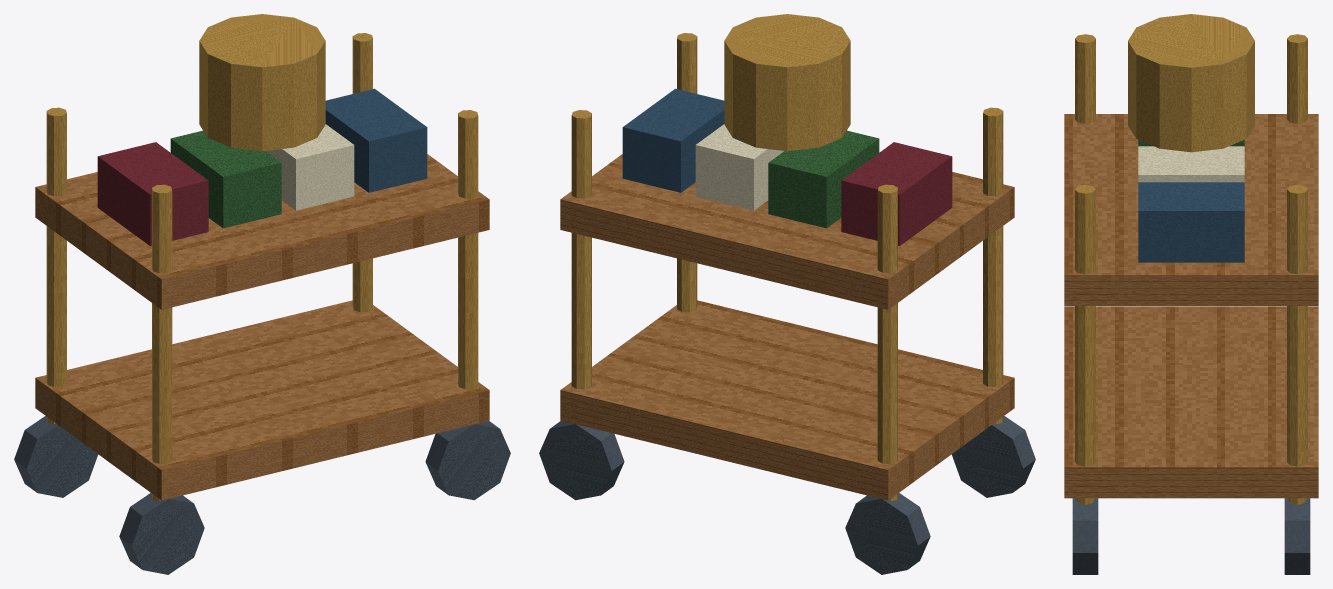
Rendered from snack_cart.glb.
3 views of the same model, side by side, from view 1: azimuth 30°, elevation 25°; view 2: azimuth 150°, elevation 25°; view 3: azimuth 270°, elevation 25° (orthographic).
Visible parts, largest first — view 1: shelf (×2), snack (×4), post (×4), teapot, wheel (×3); view 2: shelf (×2), snack (×4), post (×4), teapot, wheel (×3); view 3: shelf (×2), teapot, post (×4), snack (×2), wheel (×2).
Boxes of the visible parts, bbox=[...] form: shelf (×2): bbox=[35, 154, 489, 500]; snack (×4): bbox=[97, 88, 427, 245]; post (×4): bbox=[46, 33, 478, 500]; teapot: bbox=[199, 14, 325, 151]; wheel (×3): bbox=[14, 416, 510, 574]; shelf (×2): bbox=[560, 154, 1014, 500]; snack (×4): bbox=[622, 88, 952, 245]; post (×4): bbox=[571, 33, 1003, 500]; teapot: bbox=[724, 14, 850, 151]; wheel (×3): bbox=[539, 416, 1035, 574]; shelf (×2): bbox=[1064, 114, 1318, 498]; teapot: bbox=[1128, 14, 1254, 152]; post (×4): bbox=[1075, 34, 1307, 504]; snack (×2): bbox=[1138, 146, 1244, 262]; wheel (×2): bbox=[1072, 498, 1310, 574].
Bounding box in the file's own units: 1.04 × 1.19 × 0.6.
1 material, 1 textured.
